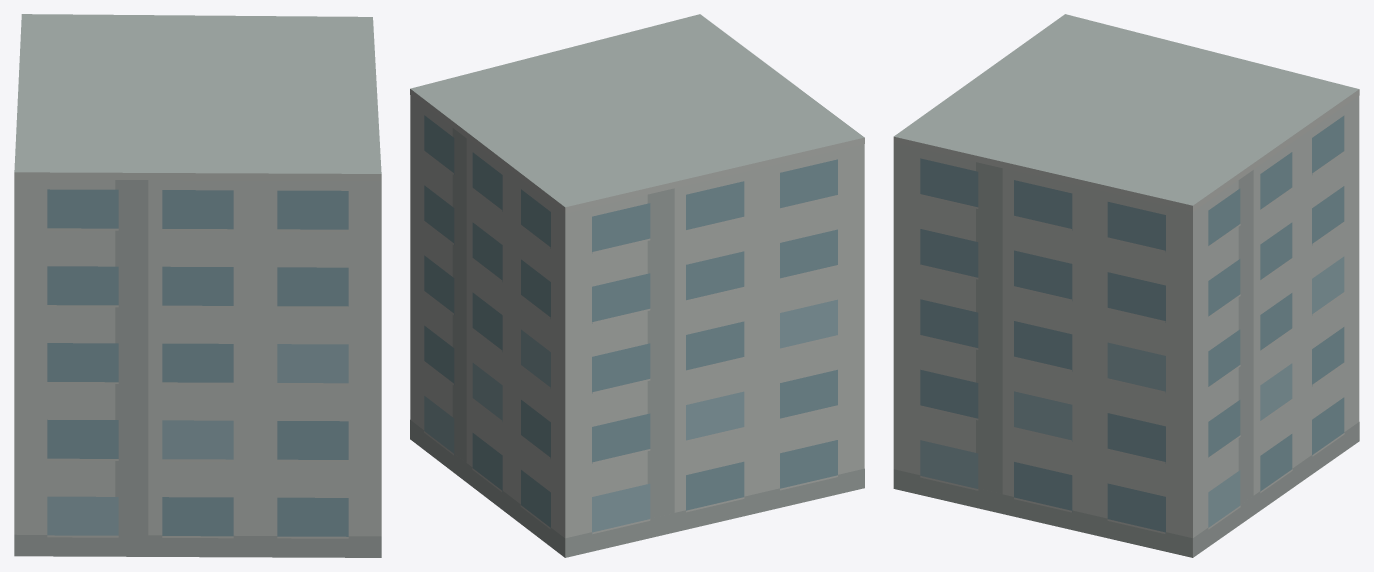
The model's file is survey-upis-32890963.glb.
The picture shows the model from 3 angles, left to right: view 1: azimuth 30°, elevation 25°; view 2: azimuth 150°, elevation 25°; view 3: azimuth 270°, elevation 25°; orthographic projection. The views are drawn at different scales.
Visible parts, largest first — view 1: survey-upis-32890963.tmp; view 2: survey-upis-32890963.tmp; view 3: survey-upis-32890963.tmp.
Boxes of the visible parts, box(x1,y1,x2,y2) form: survey-upis-32890963.tmp: box(14, 14, 381, 557); survey-upis-32890963.tmp: box(410, 14, 864, 557); survey-upis-32890963.tmp: box(893, 14, 1359, 557).
Size of the model in its own units: 15.42 by 13.2 by 15.83.
